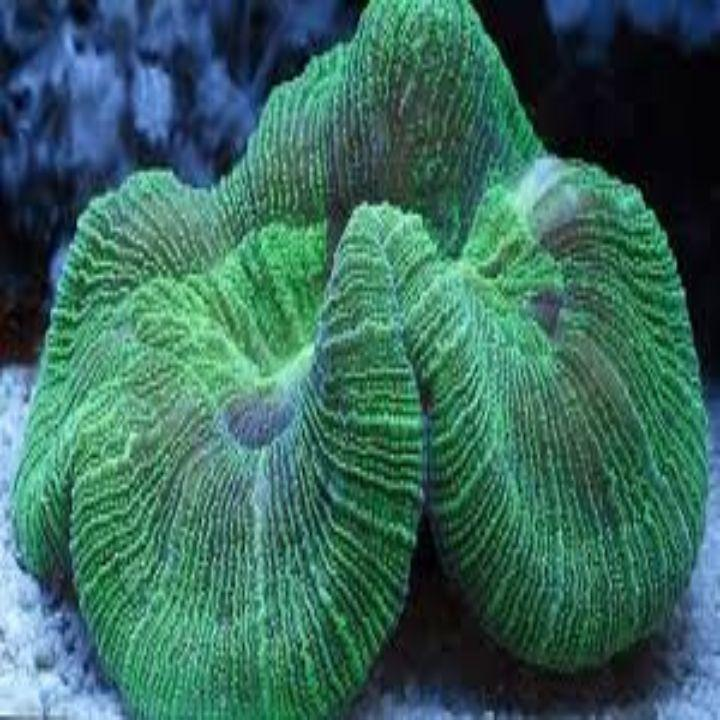Healthy Coral: (17, 124, 708, 674)
